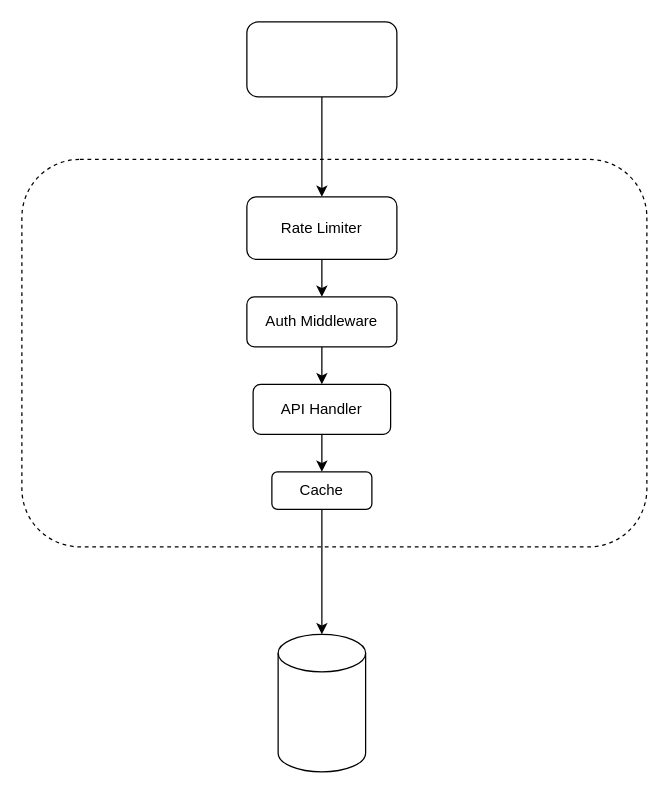
Some shapes in this 669 by 794 pixel diagram are drawn without their labels. Each missing label, with the centre of its shape:
PostgreSQL Server: pixel 321 702
UI/Client-Sim: pixel 321 59
